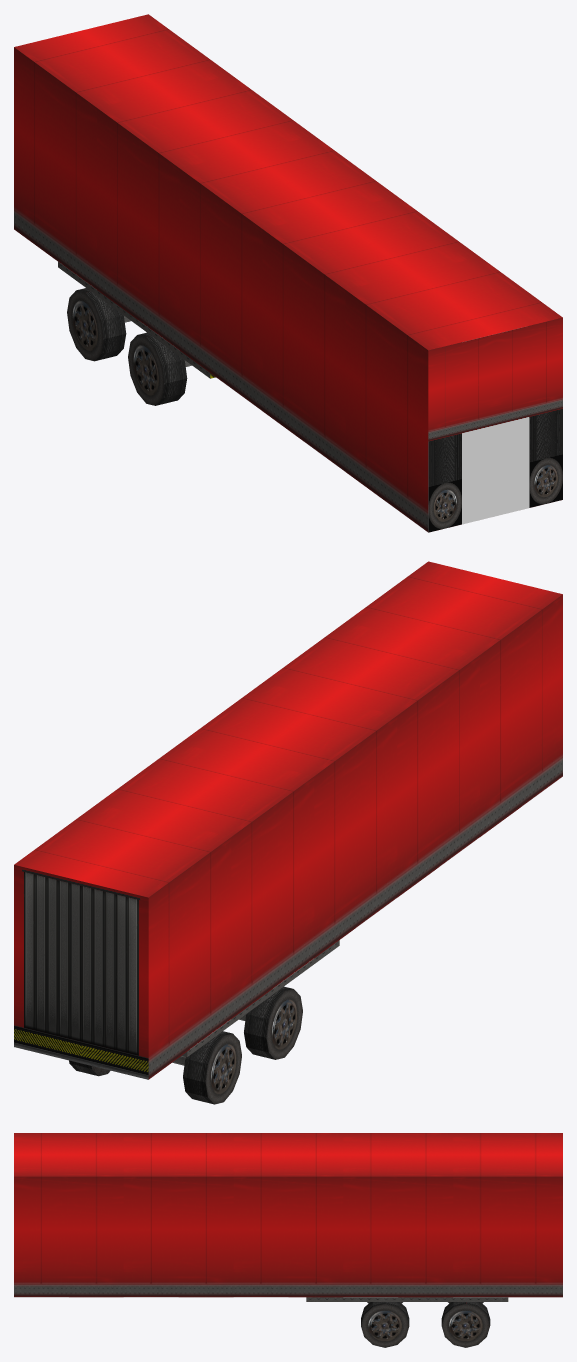
The model's file is Trailer.obj.
3 views of the same model, one above another, from view 1: azimuth 30°, elevation 25°; view 2: azimuth 150°, elevation 25°; view 3: azimuth 270°, elevation 25° (orthographic). The views are drawn at different scales.
Parts seen in each view (by area): view 1: Box01, Tire_Trailer02, Tire_Trailer04, Box03; view 2: Box01, Tire_Trailer02, Tire_Trailer04, Box03; view 3: Box01, Tire_Trailer01, Tire_Trailer03, Box03.
Boxes of the visible parts, left/top/right/bottom form: Box01: left=14, top=14, right=562, bottom=532; Tire_Trailer02: left=67, top=288, right=126, bottom=361; Tire_Trailer04: left=128, top=332, right=187, bottom=405; Box03: left=58, top=262, right=215, bottom=378; Box01: left=14, top=561, right=562, bottom=1079; Tire_Trailer02: left=183, top=1031, right=241, bottom=1104; Tire_Trailer04: left=244, top=986, right=302, bottom=1059; Box03: left=181, top=940, right=339, bottom=1056; Box01: left=14, top=1133, right=562, bottom=1297; Tire_Trailer01: left=441, top=1302, right=490, bottom=1347; Tire_Trailer03: left=361, top=1302, right=409, bottom=1347; Box03: left=306, top=1297, right=508, bottom=1301.
Bounding box in the file's own units: 2.62 × 4.67 × 13.6.
